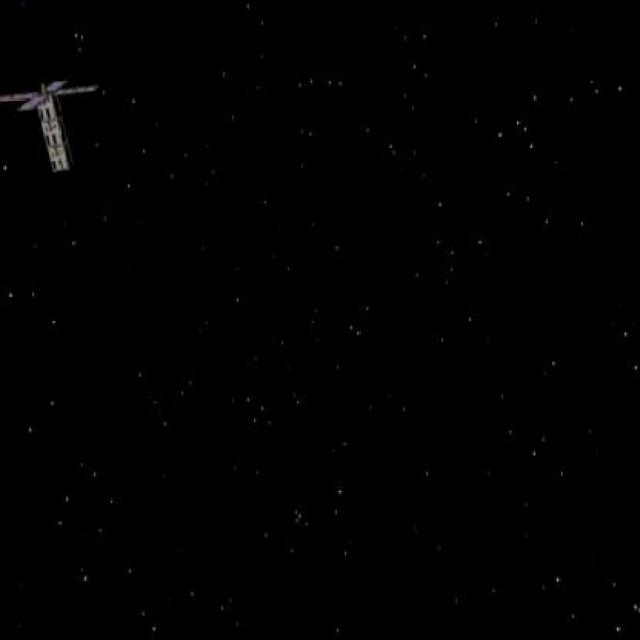satellite: (0, 65, 104, 183)
